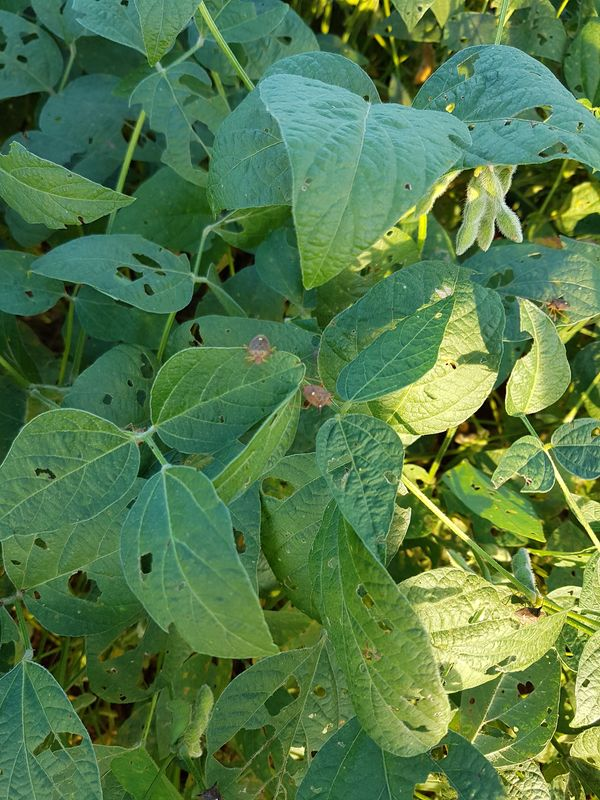Euschistus_heros_adulto: (293, 375, 340, 416), (238, 326, 282, 369), (541, 291, 580, 328), (509, 598, 548, 634), (194, 777, 226, 800)
